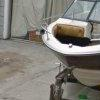Boat: (39, 6, 98, 70)
